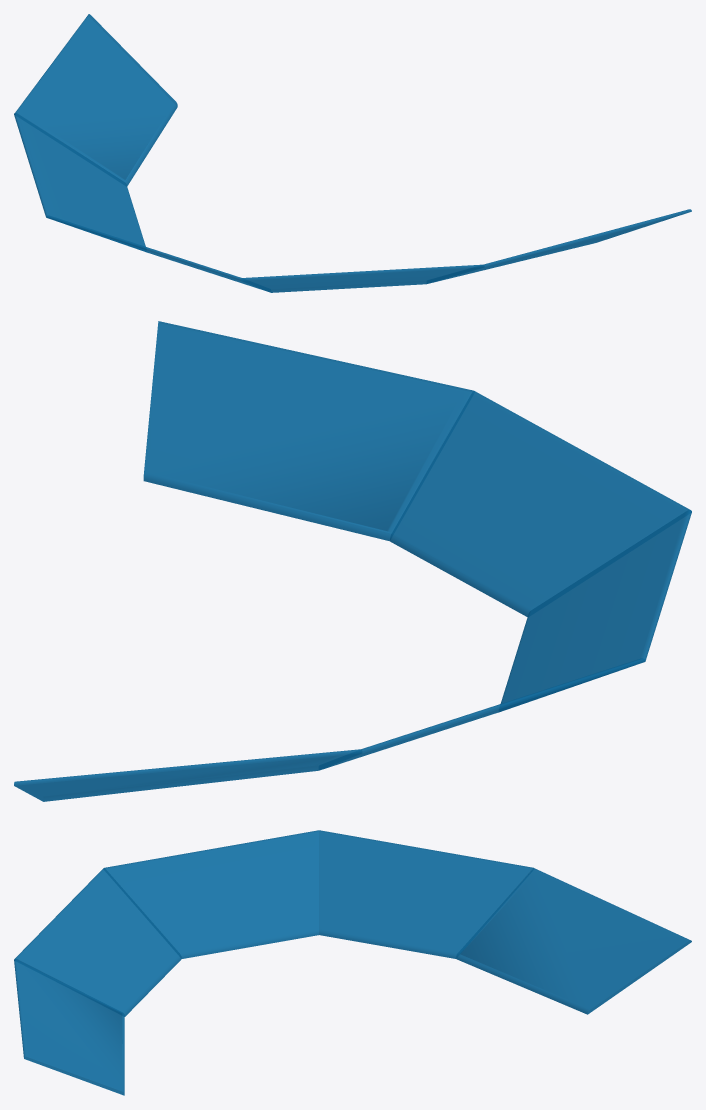
The model's file is Belt_menu3_seperated.FBX.
The picture shows the model from 3 angles, top to bottom: view 1: azimuth 30°, elevation 25°; view 2: azimuth 150°, elevation 25°; view 3: azimuth 270°, elevation 25°; orthographic projection. The views are drawn at different scales.
Visible parts, largest first — view 1: Torus001, Object001, Object004, Torus002, Object002; view 2: Torus002, Object004, Object002, Torus001, Object001; view 3: Object002, Object001, Torus001, Object004, Torus002.
Part boxes in pixels (bbox=[...]): Torus001: bbox=[15, 14, 177, 186]; Object001: bbox=[14, 113, 146, 250]; Object004: bbox=[241, 264, 484, 292]; Torus002: bbox=[427, 209, 691, 283]; Object002: bbox=[46, 215, 270, 292]; Torus002: bbox=[143, 321, 474, 541]; Object004: bbox=[390, 391, 689, 616]; Object002: bbox=[500, 510, 691, 711]; Torus001: bbox=[14, 749, 362, 801]; Object001: bbox=[319, 658, 645, 770]; Object002: bbox=[104, 830, 318, 958]; Object001: bbox=[319, 830, 533, 958]; Torus001: bbox=[456, 868, 691, 1014]; Object004: bbox=[15, 868, 181, 1016]; Torus002: bbox=[14, 958, 124, 1095].
Size of the model in its own units: 45.67 by 5.49 by 57.55.
